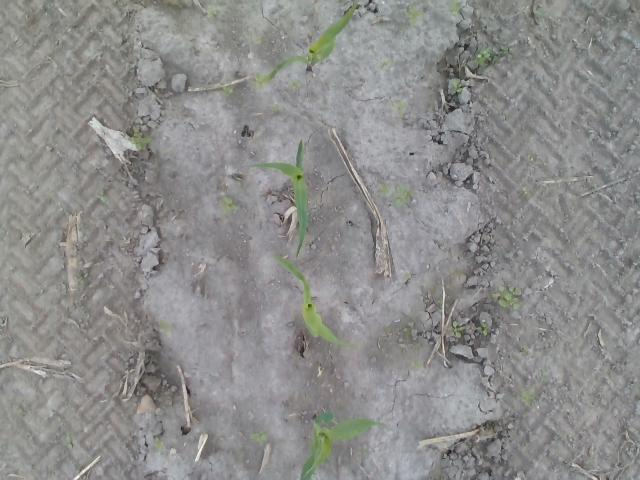Maize: (243, 137, 310, 259), (264, 0, 359, 86), (274, 253, 358, 348), (300, 411, 393, 480)
Weeds: (493, 285, 522, 311), (127, 126, 150, 150), (389, 185, 415, 206), (404, 5, 423, 26), (473, 46, 491, 68), (220, 196, 239, 216), (390, 98, 408, 117), (251, 73, 270, 90), (448, 320, 467, 337), (520, 388, 536, 406), (250, 430, 268, 444), (492, 48, 509, 62), (12, 404, 28, 418), (376, 182, 392, 196), (448, 0, 461, 15), (451, 79, 463, 95), (152, 436, 164, 452), (159, 320, 173, 333), (410, 360, 427, 370), (476, 322, 488, 336), (95, 190, 107, 203), (222, 86, 234, 99), (206, 6, 219, 18), (288, 79, 302, 90), (65, 434, 74, 450), (378, 58, 392, 68), (75, 273, 87, 283), (358, 446, 370, 456), (270, 104, 284, 112), (253, 36, 261, 44), (522, 186, 528, 194), (540, 370, 548, 376)
